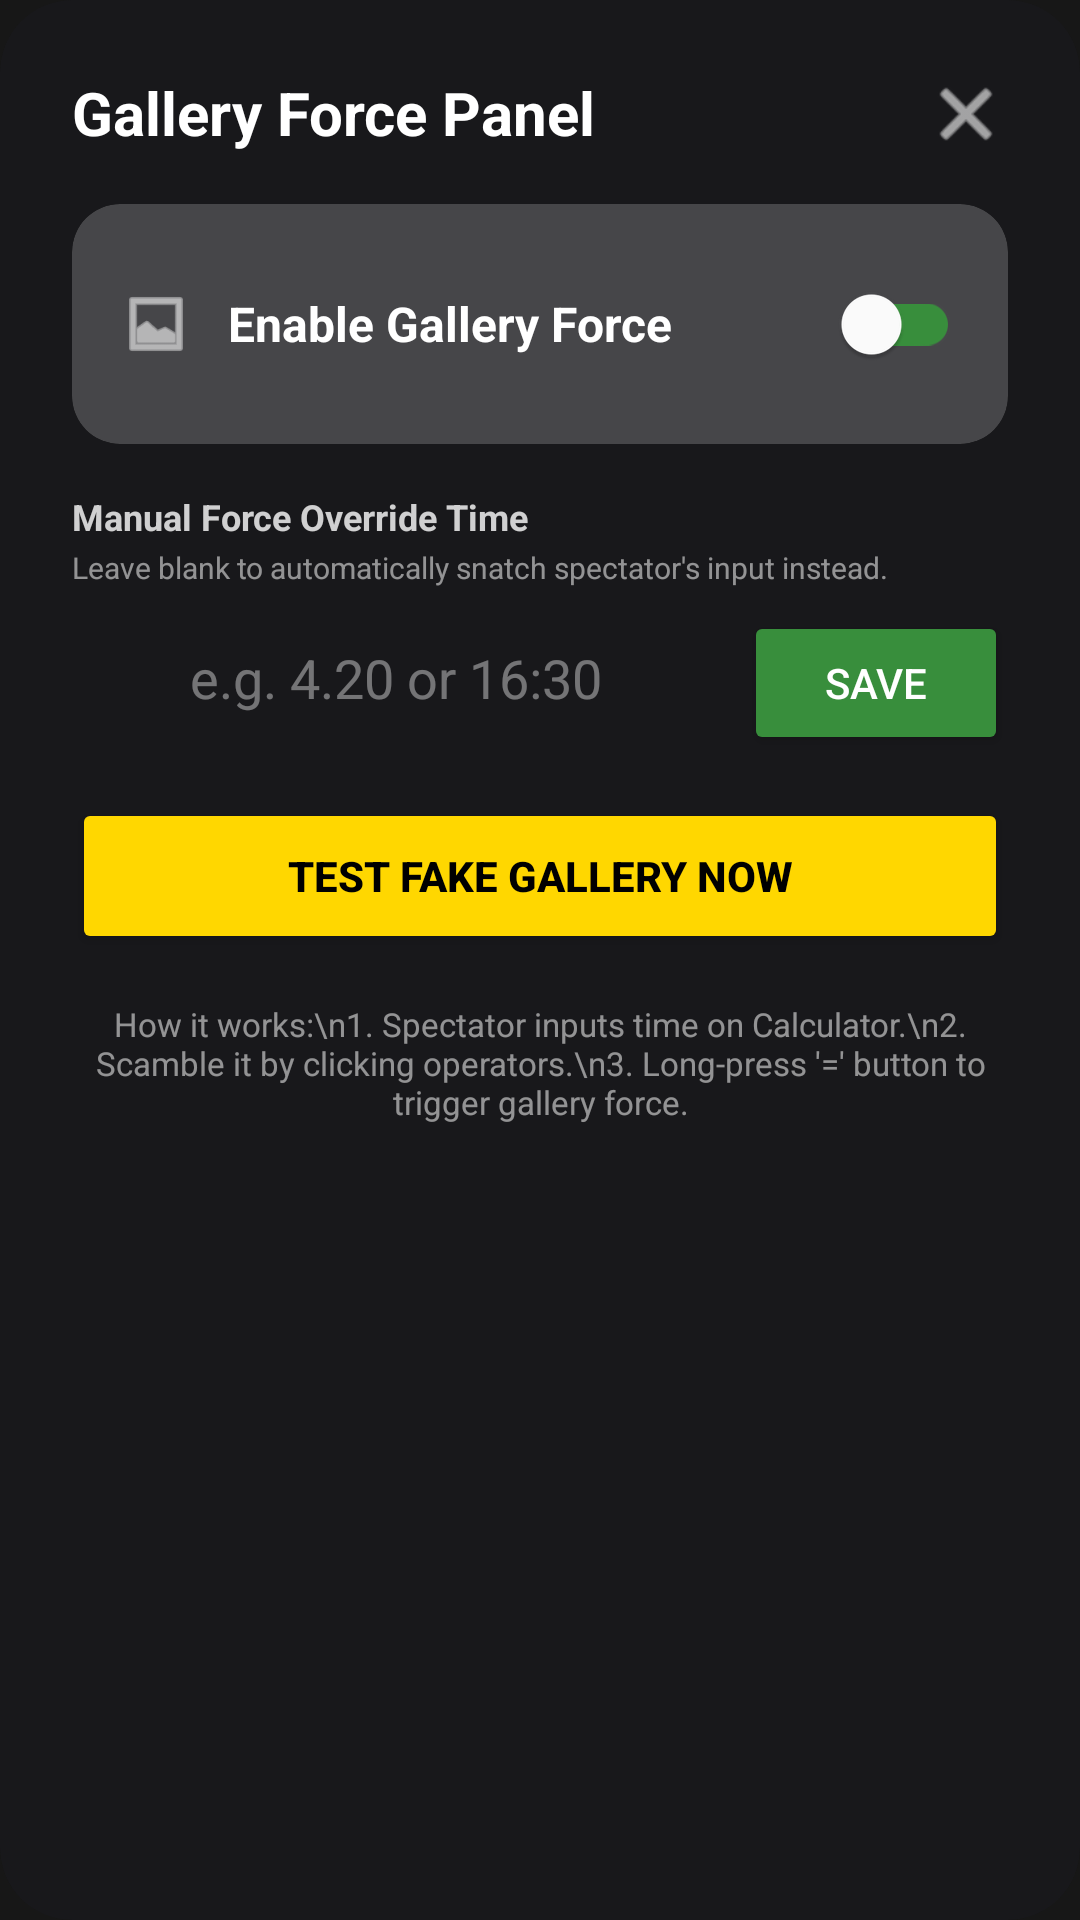

Icon click points for this 1080x1920 phone screenshot, format [x,y]:
close clear cancel: [966,114]
